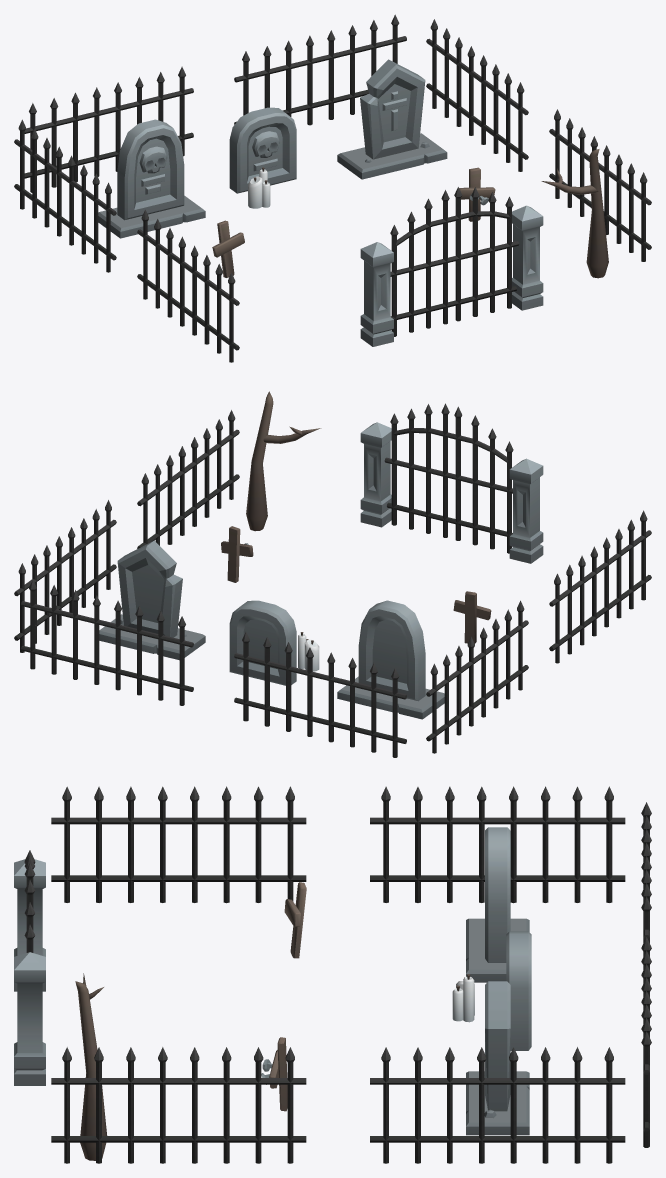
Rendered from bld_graveyard_3x3.glb.
3 renders of one model, top to bottom at view 1: azimuth 30°, elevation 25°; view 2: azimuth 150°, elevation 25°; view 3: azimuth 270°, elevation 25°, orthographic. The views are drawn at different scales.
Visible parts, largest first — view 1: grave_A, grave_B, fence_gate, gravestone, fence_seperate2, fence_seperate3, fence_seperate, fence_seperate6, fence_seperate5, fence_seperate4, fence_gate_left, fence_gate_right (+4 smaller); view 2: grave_A, grave_B, fence_gate, fence_seperate5, fence_seperate6, fence_seperate, fence_seperate2, fence_seperate4, gravestone, fence_seperate3, fence_gate_right, fence_gate_left (+4 smaller); view 3: fence_seperate2, fence_seperate, fence_seperate3, fence_seperate4, fence_gate, grave_B, grave_A, gravestone, tree_dead_small, fence_seperate6, fence_seperate5, candle_triple (+3 smaller).
Part boxes in pixels (bbox=[...]): grave_A: bbox=[98, 119, 205, 238]; grave_B: bbox=[337, 59, 447, 179]; fence_gate: bbox=[360, 205, 543, 346]; gravestone: bbox=[229, 107, 296, 193]; fence_seperate2: bbox=[137, 209, 239, 362]; fence_seperate3: bbox=[426, 19, 528, 171]; fence_seperate: bbox=[14, 119, 116, 272]; fence_seperate6: bbox=[234, 14, 406, 125]; fence_seperate5: bbox=[24, 66, 193, 192]; fence_seperate4: bbox=[549, 109, 651, 261]; fence_gate_left: bbox=[451, 187, 519, 321]; fence_gate_right: bbox=[390, 190, 453, 336]; grave_A: bbox=[337, 600, 444, 719]; grave_B: bbox=[99, 540, 205, 660]; fence_gate: bbox=[360, 422, 543, 563]; fence_seperate5: bbox=[234, 632, 406, 757]; fence_seperate6: bbox=[21, 579, 193, 705]; fence_seperate: bbox=[426, 600, 528, 753]; fence_seperate2: bbox=[549, 510, 651, 663]; fence_seperate4: bbox=[137, 410, 239, 548]; gravestone: bbox=[229, 600, 296, 685]; fence_seperate3: bbox=[14, 500, 116, 652]; fence_gate_right: bbox=[450, 406, 513, 553]; fence_gate_left: bbox=[384, 403, 452, 537]; fence_seperate2: bbox=[51, 786, 306, 903]; fence_seperate: bbox=[370, 786, 625, 903]; fence_seperate3: bbox=[370, 1047, 625, 1163]; fence_seperate4: bbox=[51, 1047, 306, 1163]; fence_gate: bbox=[14, 859, 45, 1085]; grave_B: bbox=[466, 981, 529, 1135]; grave_A: bbox=[466, 827, 529, 982]; gravestone: bbox=[506, 931, 531, 1050]; tree_dead_small: bbox=[75, 973, 107, 1160]; fence_seperate6: bbox=[641, 937, 651, 1147]; fence_seperate5: bbox=[641, 802, 651, 943]; candle_triple: bbox=[452, 974, 474, 1022].
Bounding box in the file's own units: 2.95 × 0.989 × 3.
Materials: 9 (9 with a texture image).
